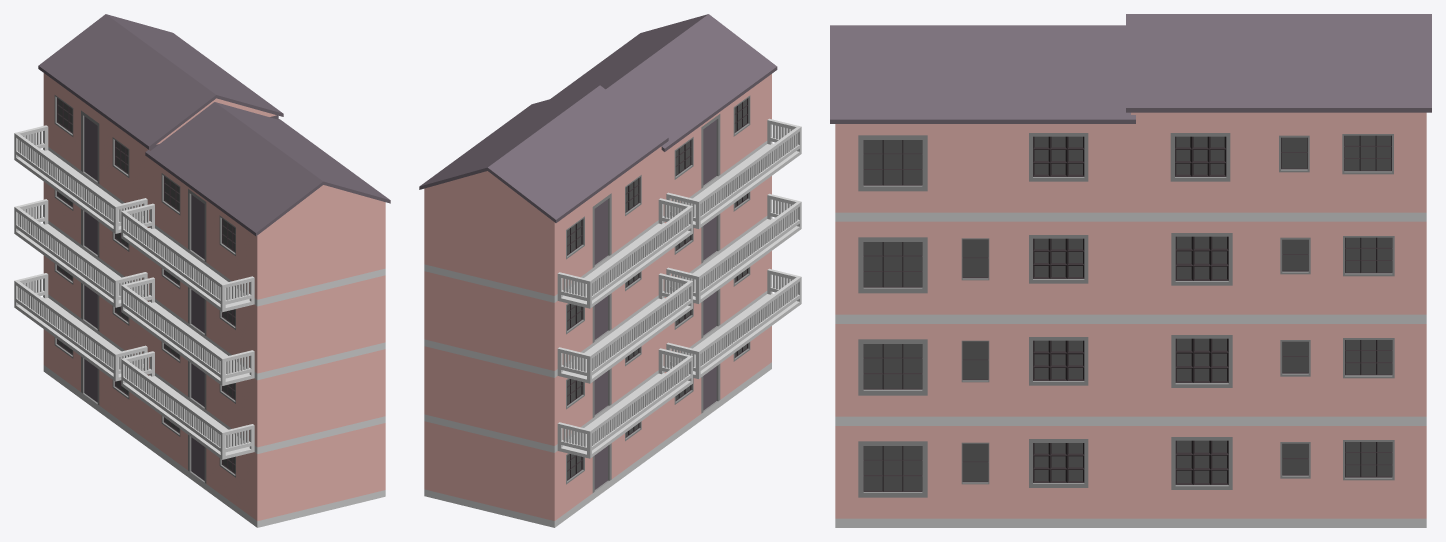
File: Apartment a.fbx
3 views of the same model, side by side, from view 1: azimuth 30°, elevation 25°; view 2: azimuth 150°, elevation 25°; view 3: azimuth 270°, elevation 25° (orthographic). The views are drawn at different scales.
Parts seen in each view (by area): view 1: building_003; view 2: building_003; view 3: building_003.
Part boxes in pixels (box(x1,y1,x2,y2)): building_003: box(14, 14, 390, 527); building_003: box(419, 14, 801, 527); building_003: box(830, 14, 1431, 527).
Bounding box in the file's own units: 510 × 1015 × 1176.
